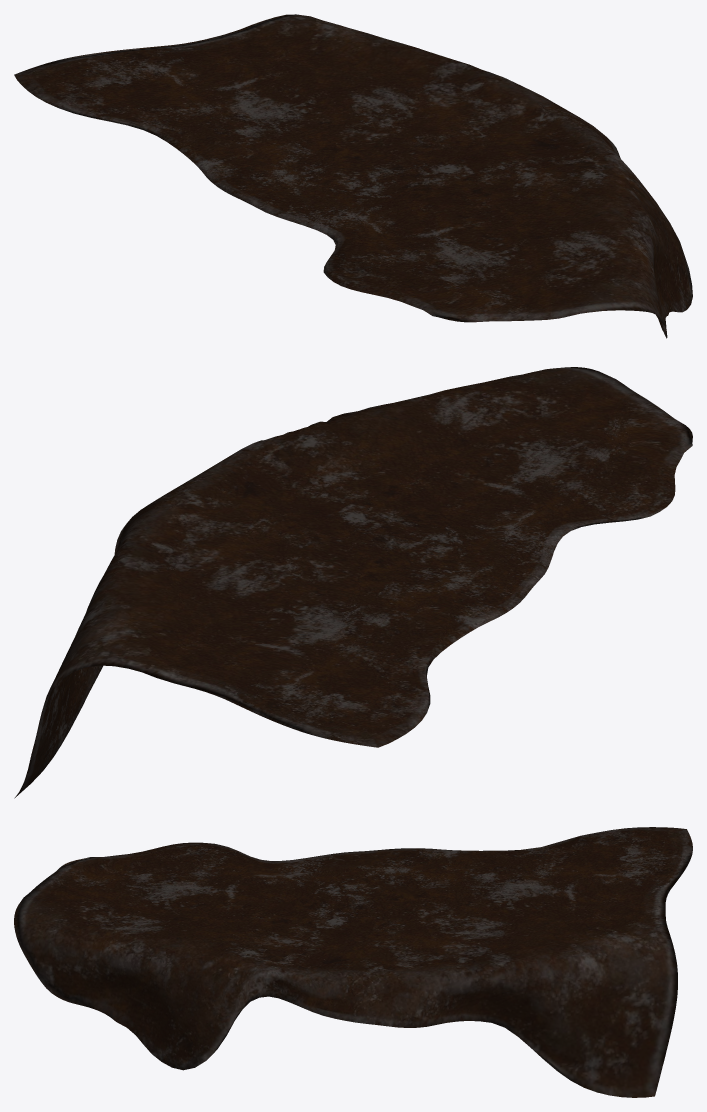
Rendered from hide_dark.glb.
3 views of the same model, one above another, from view 1: azimuth 30°, elevation 25°; view 2: azimuth 150°, elevation 25°; view 3: azimuth 270°, elevation 25° (orthographic). The views are drawn at different scales.
Visible parts, largest first — view 1: defaultMaterial; view 2: defaultMaterial; view 3: defaultMaterial.
Boxes of the visible parts, <box> form: defaultMaterial: <box>14,14,692,338</box>; defaultMaterial: <box>14,367,692,798</box>; defaultMaterial: <box>14,827,692,1097</box>.
Size of the model in its own units: 1.2 by 0.4326 by 2.
1 material, 1 textured.
